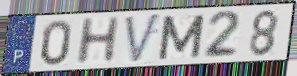0: (40, 18, 75, 68)
2: (204, 9, 243, 62)
8: (248, 8, 282, 58)
H: (73, 15, 123, 67)
M: (155, 13, 207, 62)
V: (123, 11, 163, 66)
